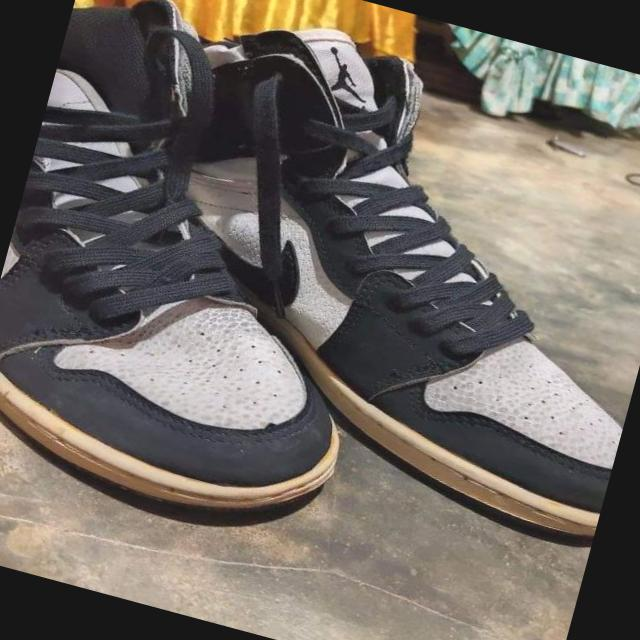nike_fake_jordan: (58, 0, 640, 546), (0, 0, 443, 550)
